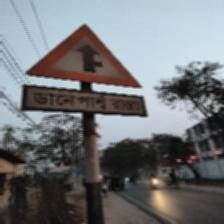Side-road-right: (22, 23, 146, 120)
